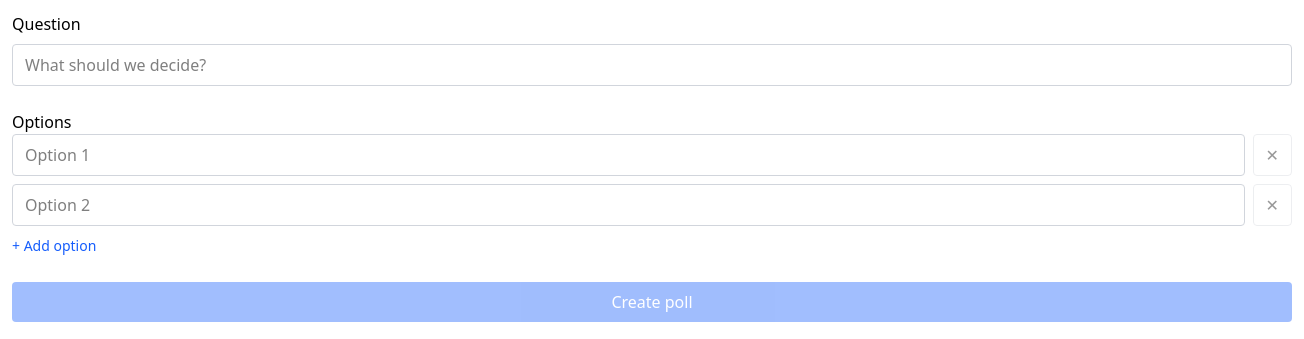
Scenario: CreatePollForm › keeps submit disabled until a title and every option is filled
expect the button "Create poll" is disabled: met, box 12,282 -> 1292,322
Type "Lunch?" into the field labelled "Question" at (652, 65), box 12,44 -> 1292,86
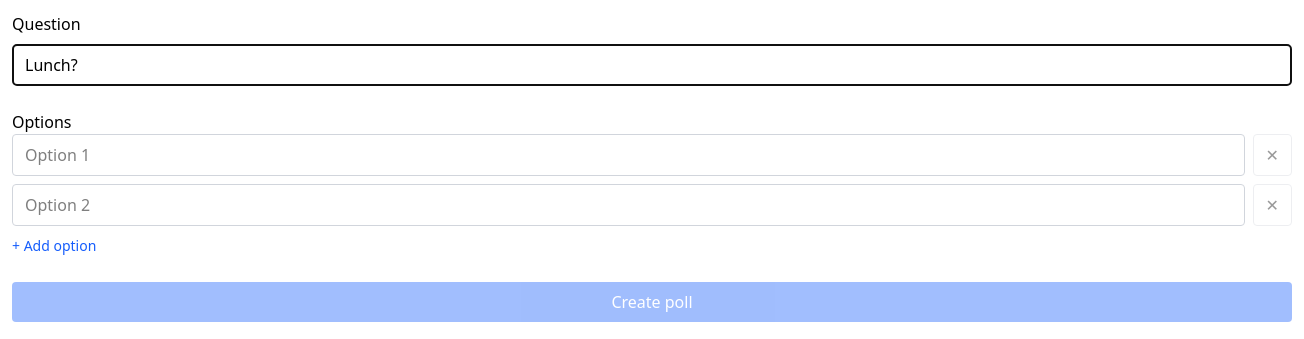
Type "Pizza" into the field labelled "Option 1" at (628, 155), box 12,134 -> 1245,176
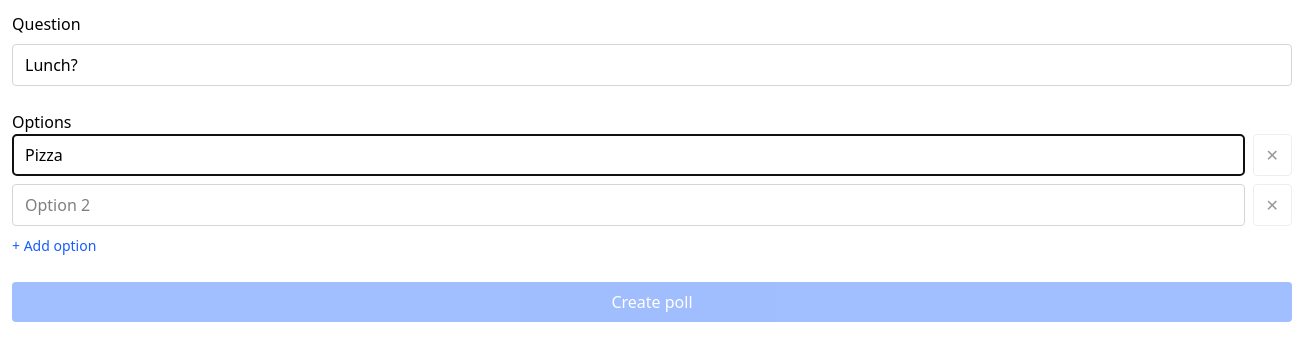
Type "Sushi" into the field labelled "Option 2" at (628, 205), box 12,184 -> 1245,226
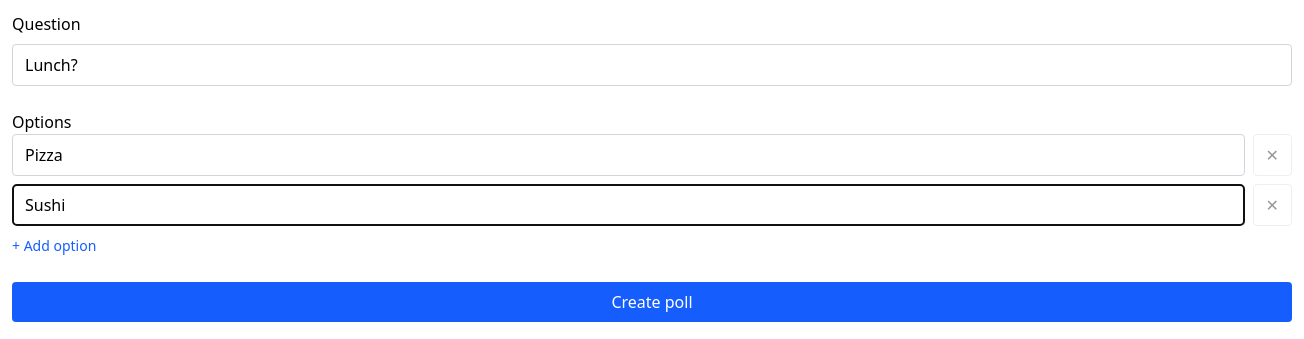
expect the button "Create poll" is enabled: met, box 12,282 -> 1292,322
